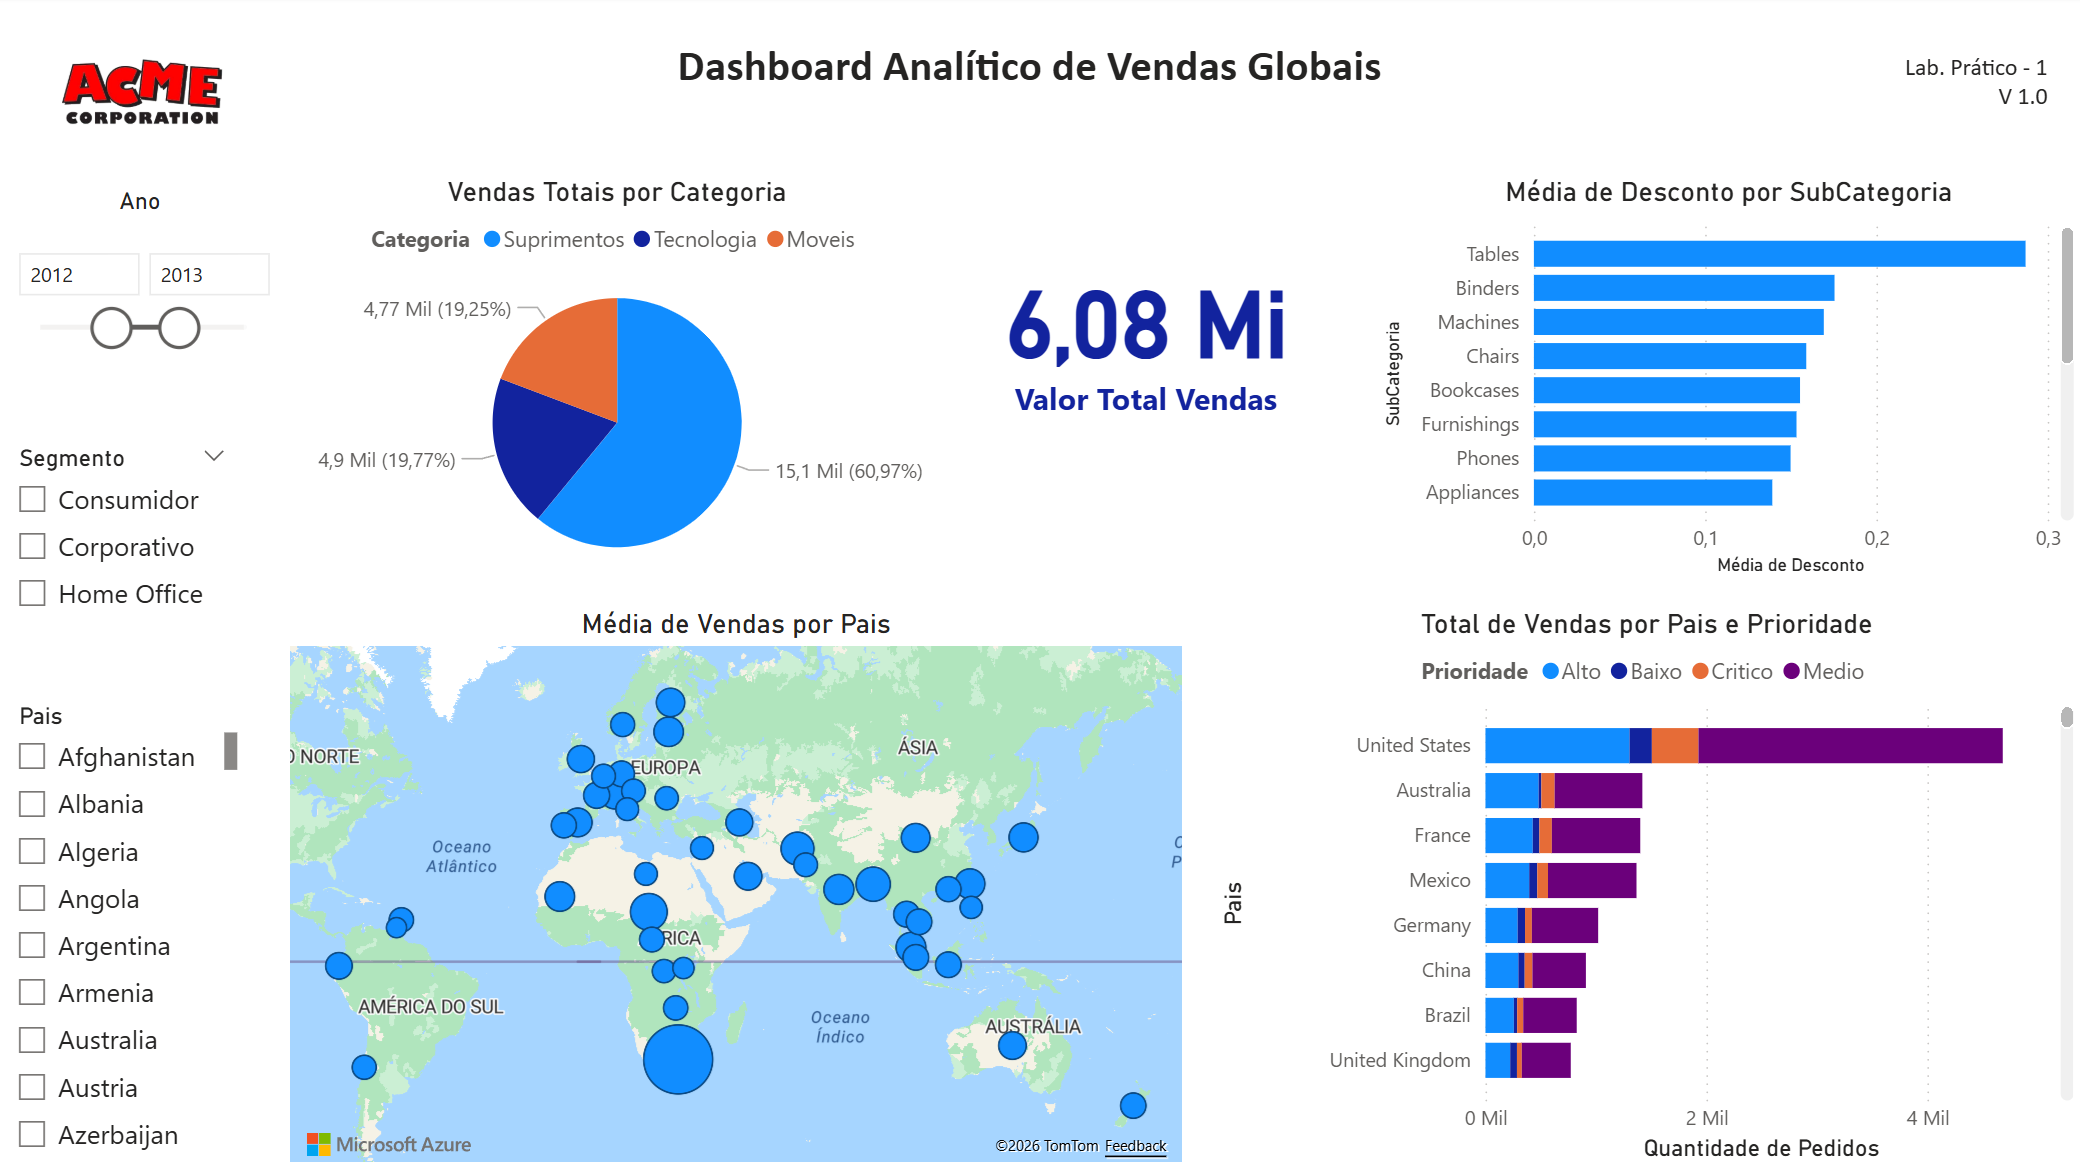

This screenshot's page, from the dashboard's own definition file:
{"tool":"powerbi","page":{"name":"Page 1","canvas":[1280,720],"ordinal":0},"visuals":[{"type":"card","fields":{"Values":["Sum(dataset.Total_Vendas)"]},"box":[575,103.8,260.5,204.6],"z":0},{"type":"pieChart","title":"Vendas Totais por Categoria","fields":{"Category":["dataset.Categoria"],"Y":["CountNonNull(dataset.ID_Pedido)"]},"box":[174.6,109.6,411.8,256.6],"z":1000},{"type":"barChart","title":"Total de Vendas por Pais e Prioridade","fields":{"Category":["dataset.Pais"],"Series":["dataset.Prioridade"],"Y":["CountNonNull(dataset.ID_Pedido)"]},"box":[745.6,375,534.4,345.5],"z":2000},{"type":"barChart","fields":{"Category":["dataset.SubCategoria"],"Y":["Avg(dataset.Desconto)"]},"box":[846.4,109.7,433.6,250.2],"z":3000},{"type":"azureMap","title":"Média de Vendas por Pais","fields":{"Category":["dataset.Pais"],"Size":["Avg(dataset.Total_Vendas)"]},"box":[174.5,374.8,558.3,345.9],"z":4000},{"type":"slicer","fields":{"Values":["dataset.Pais"]},"box":[0,428.7,151.5,291.1],"z":5000},{"type":"slicer","fields":{"Values":["dataset.Segmento"]},"box":[0,270.2,151.5,117.6],"z":6000},{"type":"slicer","title":"Ano","fields":{"Values":["dataset.Data_Pedido.Variation.Date Hierarchy.Year"]},"box":[0,117.6,174.5,110.7],"z":7000},{"type":"textbox","box":[151.5,20.9,964,47.9],"z":8000},{"type":"textbox","box":[1115.5,28.9,148.5,58.8],"z":9000},{"type":"image","box":[37.9,7,99.7,102.7],"z":10000}]}

Visuals, with their boxes in screenshot pixels (x1, y1, x2, y2), scaled from the page's 1280x720 canvas onto the 2080x1168 screenshot:
card - Sum(dataset.Total_Vendas): 934, 168, 1358, 500
"Vendas Totais por Categoria" pieChart: 284, 178, 953, 594
"Total de Vendas por Pais e Prioridade" barChart: 1212, 608, 2079, 1167
barChart - dataset.SubCategoria x Avg(dataset.Desconto): 1375, 178, 2079, 584
"Média de Vendas por Pais" azureMap: 284, 608, 1191, 1167
slicer - dataset.Pais: 0, 695, 246, 1167
slicer - dataset.Segmento: 0, 438, 246, 629
"Ano" slicer: 0, 191, 284, 370
textbox: 246, 34, 1813, 112
textbox: 1813, 47, 2054, 142
image: 62, 11, 224, 178
